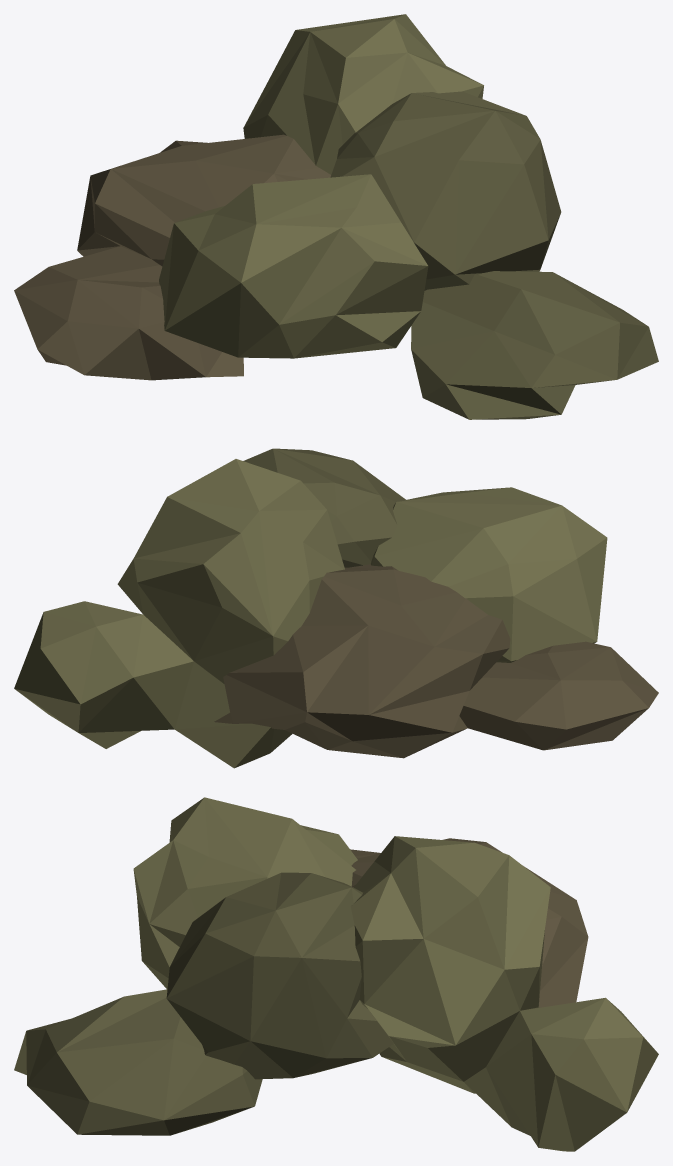
The model's file is SM_Env_Bush_Large_04.glb.
The picture shows the model from 3 angles, top to bottom: view 1: azimuth 30°, elevation 25°; view 2: azimuth 150°, elevation 25°; view 3: azimuth 270°, elevation 25°; orthographic projection. The views are drawn at different scales.
Visible parts, largest first — view 1: SM_Env_Bush_Large_04; view 2: SM_Env_Bush_Large_04; view 3: SM_Env_Bush_Large_04.
Boxes of the visible parts, box(x1,y1,x2,y2) form: SM_Env_Bush_Large_04: box(14, 14, 658, 419); SM_Env_Bush_Large_04: box(14, 448, 658, 768); SM_Env_Bush_Large_04: box(14, 797, 658, 1151).
Bounding box in the file's own units: 7.34 × 3.66 × 7.7.
1 material, 1 textured.
